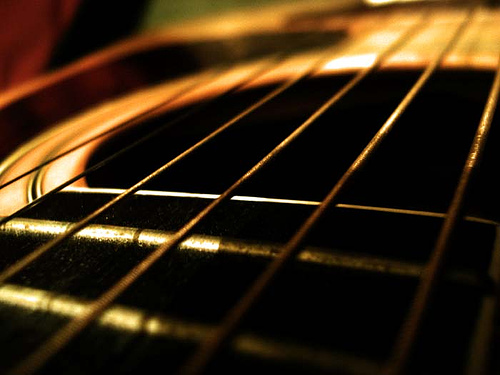guitar: (1, 5, 500, 375)
